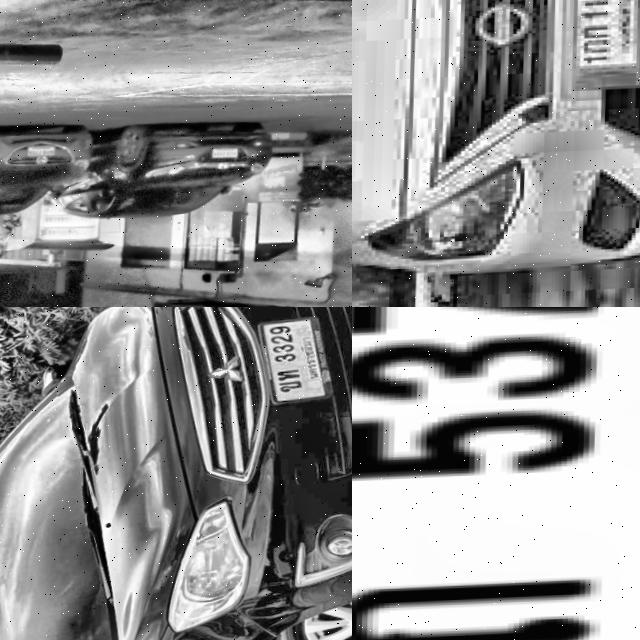license-plate: (352, 307, 640, 640), (252, 310, 341, 411), (568, 0, 640, 90), (193, 160, 215, 187), (175, 300, 196, 307)
